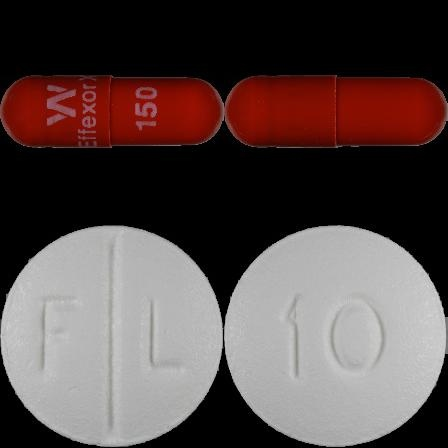63629-3314: (0, 0, 224, 224)
